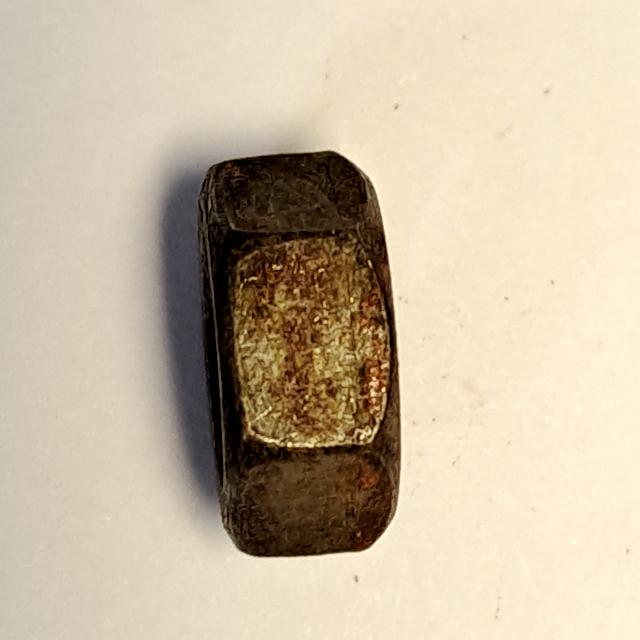Side_Rust: (179, 137, 413, 578)
